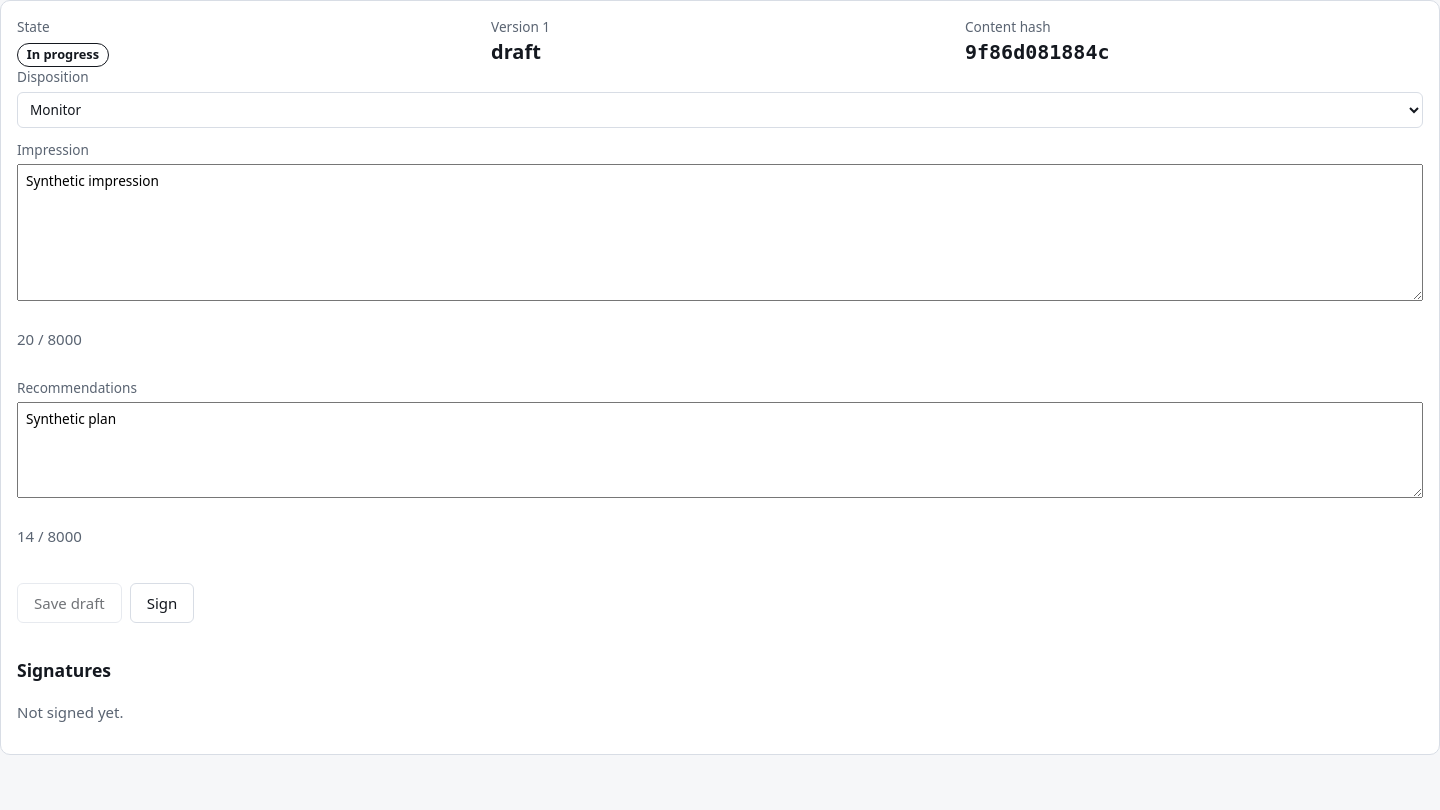
ReviewPanel › offers a reload after 412 stale-version
Type " more" into the text box labelled "Impression" at (720, 233), box x1=17 y1=164 x2=1423 y2=301
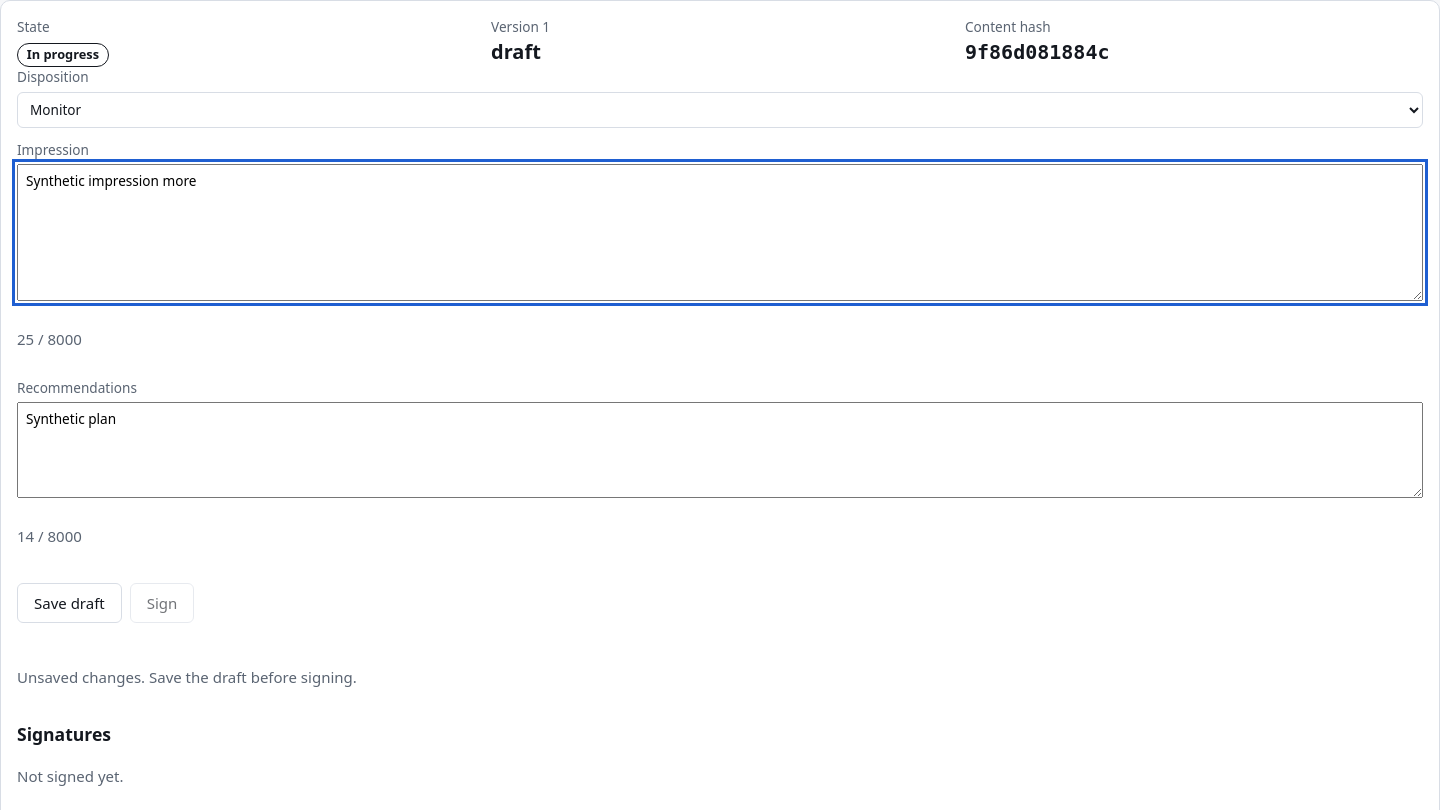
Click the button "Save draft" at (69, 603), box x1=17 y1=583 x2=122 y2=623
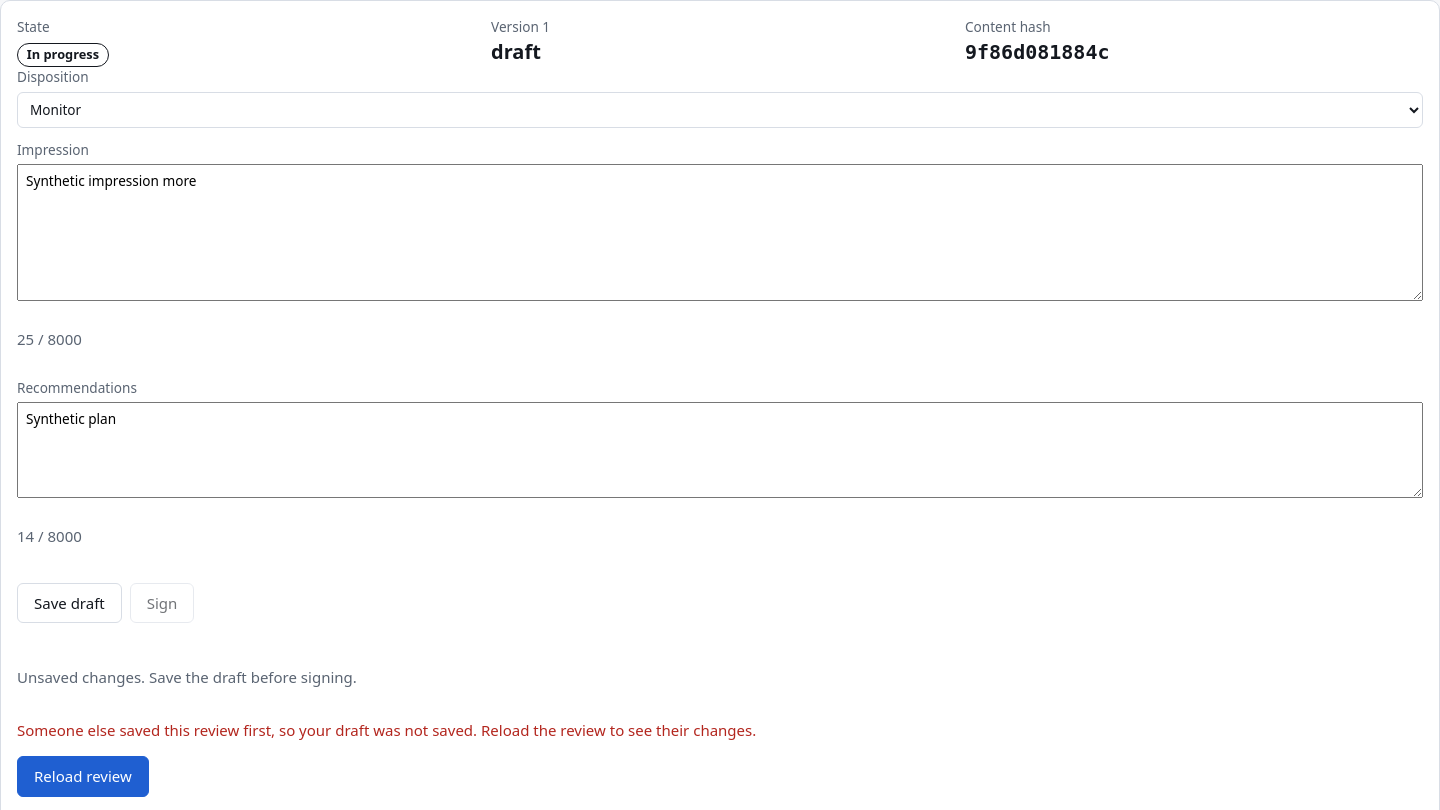
Expected: the message shows "Someone else saved", x1=17 y1=720 x2=756 y2=740
Click the button "Reload review" at (83, 777), box x1=17 y1=756 x2=149 y2=797
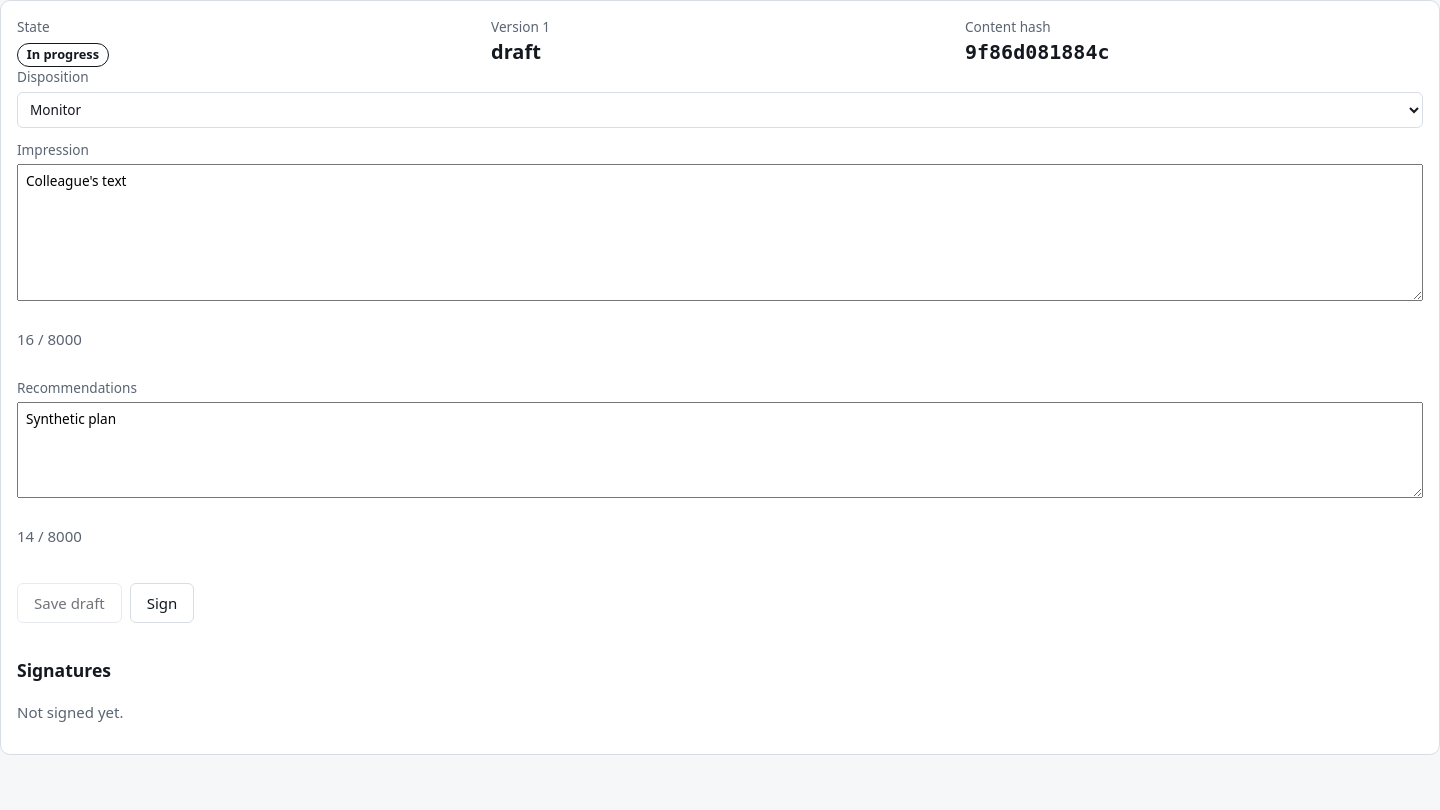
Expected: the text box labelled "Impression" holds "Colleague's text", x1=17 y1=164 x2=1423 y2=301
